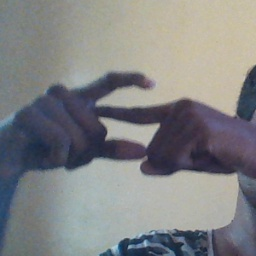E: (79, 59, 177, 169)
